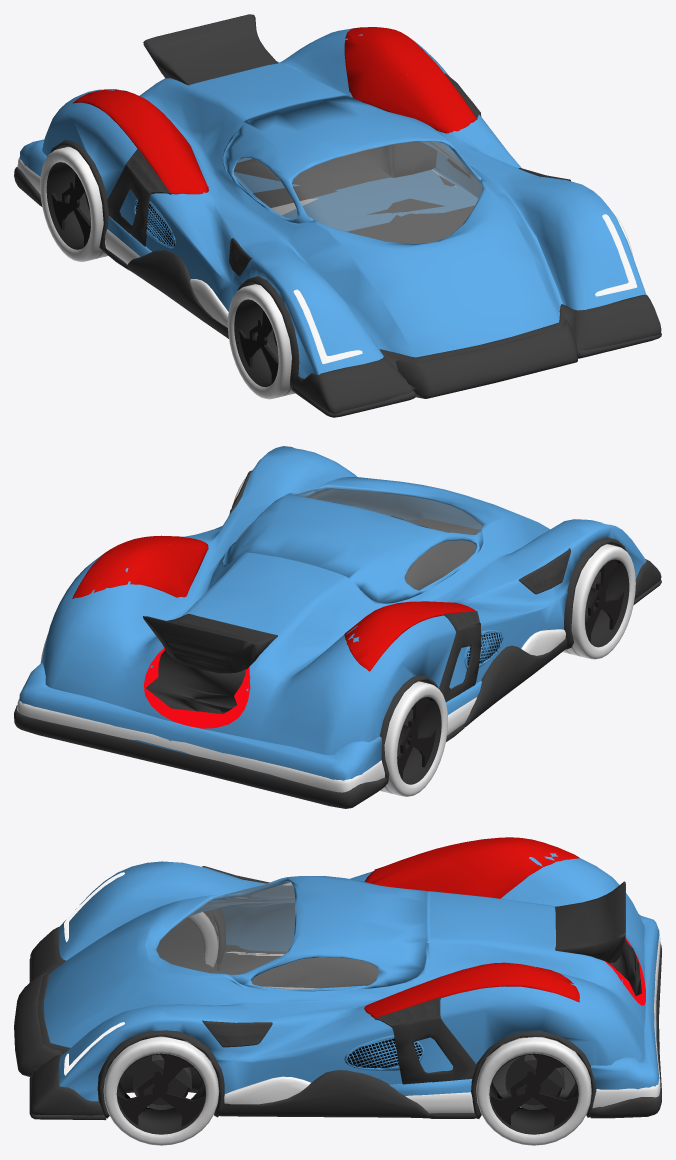
Rendered from J4_game.glb.
3 views of the same model, one above another, from view 1: azimuth 30°, elevation 25°; view 2: azimuth 150°, elevation 25°; view 3: azimuth 270°, elevation 25° (orthographic).
Visible parts, largest first — view 1: body_paint_base_game, body_glass_game, body_paint_trim_sole_game, body_paint_accent_2_game, body_paint_trim_sole_back_game, body_paint_accent_3_game, body_paint_trim_top_game, tire_speed_game (×2), rim_barrel_speed_game (×2), body_paint_tire_well_game, rim_face_speed_game (×2), body_paint_accent_1_game (+3 smaller); view 2: body_paint_base_game, body_paint_accent_3_game, body_paint_accent_2_game, body_paint_trim_top_game, body_paint_trim_sole_back_game, tire_speed_game (×2), body_glass_game, body_paint_trim_sole_game, body_paint_trim_mid_game, rim_barrel_speed_game (×2), rim_face_speed_game (×2), body_light_tail_game (+3 smaller); view 3: body_paint_base_game, body_paint_trim_sole_game, body_glass_game, body_paint_accent_2_game, tire_speed_game (×3), body_paint_accent_3_game, body_paint_trim_sole_back_game, rim_face_speed_game (×2), body_paint_trim_top_game, body_paint_tire_well_game, rim_barrel_speed_game (×2), body_paint_accent_1_game (+6 smaller).
Boxes of the visible parts, box(x1,y1,x2,y2) form: body_paint_base_game: box(42, 28, 646, 378); body_glass_game: box(233, 141, 483, 243); body_paint_trim_sole_game: box(127, 199, 661, 413); body_paint_accent_2_game: box(73, 27, 476, 194); body_paint_trim_sole_back_game: box(14, 144, 661, 417); body_paint_accent_3_game: box(107, 14, 481, 246); body_paint_trim_top_game: box(20, 139, 477, 256); tire_speed_game (×2): box(40, 146, 294, 399); rim_barrel_speed_game (×2): box(46, 162, 278, 387); body_paint_tire_well_game: box(50, 140, 436, 388); rim_face_speed_game (×2): box(51, 172, 278, 382); body_paint_accent_1_game: box(126, 73, 570, 276); body_paint_base_game: box(41, 446, 646, 755); body_paint_accent_3_game: box(143, 614, 481, 713); body_paint_accent_2_game: box(72, 535, 475, 671); body_paint_trim_top_game: box(19, 663, 481, 780); body_paint_trim_sole_back_game: box(14, 516, 661, 808); tire_speed_game (×2): box(380, 544, 635, 796); body_glass_game: box(236, 487, 482, 590); body_paint_trim_sole_game: box(405, 519, 661, 726); body_paint_trim_mid_game: box(17, 697, 476, 792); rim_barrel_speed_game (×2): box(397, 559, 629, 784); rim_face_speed_game (×2): box(397, 560, 623, 778); body_light_tail_game: box(143, 648, 250, 728); body_paint_base_game: box(44, 853, 645, 1101); body_paint_trim_sole_game: box(16, 910, 429, 1118); body_glass_game: box(156, 881, 380, 988); body_paint_accent_2_game: box(364, 837, 579, 1018); tire_speed_game (×3): box(103, 912, 591, 1145); body_paint_accent_3_game: box(392, 881, 641, 1086); body_paint_trim_sole_back_game: box(14, 942, 661, 1120); rim_face_speed_game (×2): box(118, 1054, 577, 1126); body_paint_trim_top_game: box(389, 914, 659, 1095); body_paint_tire_well_game: box(97, 908, 596, 1118); rim_barrel_speed_game (×2): box(116, 1053, 578, 1134); body_paint_accent_1_game: box(202, 866, 440, 1047).
Size of what is drawn, in the model's own units: 2.54 by 1.09 by 4.06.
Materials: 19 (1 with a texture image).
